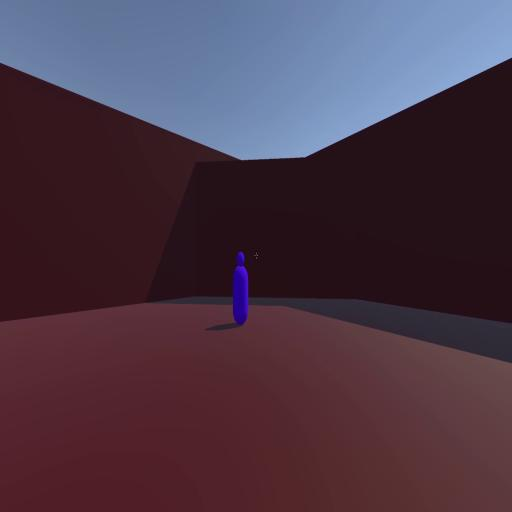Crosshair: (254, 252, 258, 260)
Target: (233, 249, 249, 326)
